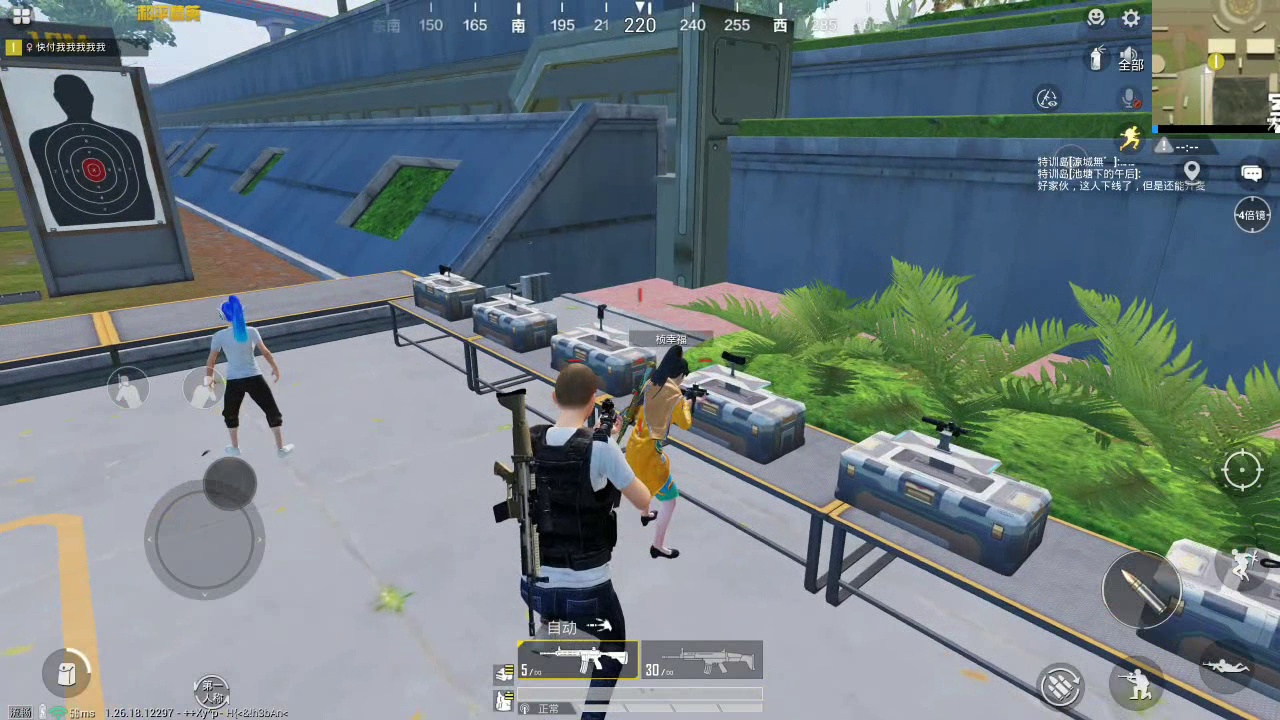enemy: (620, 349, 685, 562), (206, 296, 292, 452)
